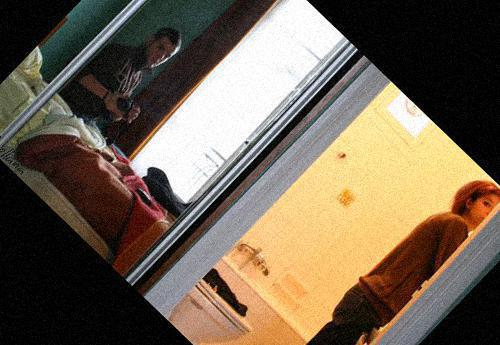Sanitario: (136, 218, 284, 345)
